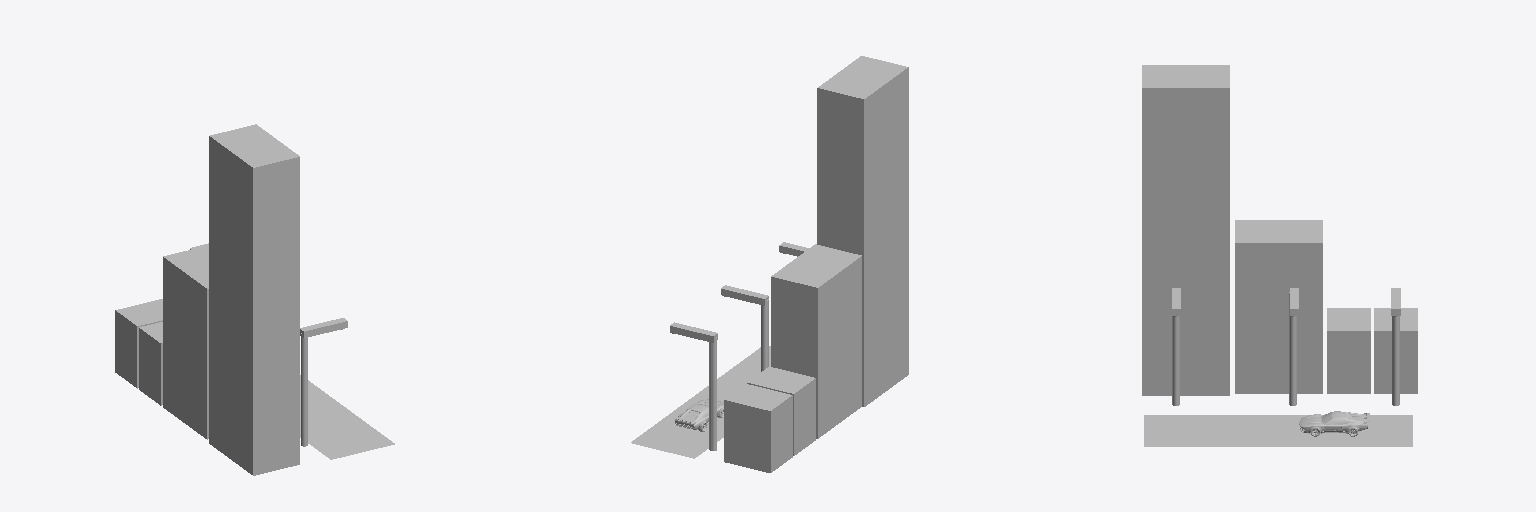
The model's file is Scifi_Scene.obj.
The picture shows the model from 3 angles: view 1: azimuth 30°, elevation 25°; view 2: azimuth 150°, elevation 25°; view 3: azimuth 270°, elevation 25°; orthographic projection.
Visible parts, largest first — view 1: pCube13, pCube2, pPlane1, pCube16, pCube15, pCube14, pCube12; view 2: pCube13, pCube2, pCube16, pCube14, pPlane1, pCube15, pCube10, Car, pCube11; view 3: pCube13, pCube14, pPlane1, pCube15, pCube16, Car, pCube10, pCube12, pCube2, pCube11.
Boxes of the visible parts, x1=… form: pCube13: x1=209, y1=124, x2=299, y2=475; pCube2: x1=163, y1=257, x2=208, y2=438; pPlane1: x1=300, y1=375, x2=394, y2=459; pCube16: x1=115, y1=299, x2=162, y2=388; pCube15: x1=139, y1=322, x2=162, y2=405; pCube14: x1=163, y1=245, x2=208, y2=439; pCube12: x1=300, y1=318, x2=347, y2=446; pCube13: x1=817, y1=56, x2=908, y2=406; pCube2: x1=771, y1=244, x2=861, y2=438; pCube16: x1=724, y1=384, x2=792, y2=472; pCube14: x1=771, y1=245, x2=861, y2=437; pPlane1: x1=631, y1=346, x2=770, y2=458; pCube15: x1=747, y1=367, x2=815, y2=455; pCube10: x1=670, y1=322, x2=717, y2=450; Car: x1=675, y1=399, x2=723, y2=431; pCube11: x1=722, y1=290, x2=768, y2=371; pCube13: x1=1142, y1=65, x2=1229, y2=395; pCube14: x1=1235, y1=220, x2=1322, y2=393; pPlane1: x1=1144, y1=415, x2=1412, y2=446; pCube15: x1=1327, y1=308, x2=1370, y2=393; pCube16: x1=1374, y1=308, x2=1417, y2=393; Car: x1=1299, y1=411, x2=1369, y2=436; pCube10: x1=1391, y1=288, x2=1400, y2=405; pCube12: x1=1172, y1=288, x2=1180, y2=405; pCube2: x1=1235, y1=220, x2=1322, y2=393; pCube11: x1=1289, y1=292, x2=1296, y2=405.
Bounding box in the file's own units: 14.77 × 30.72 × 24.65.